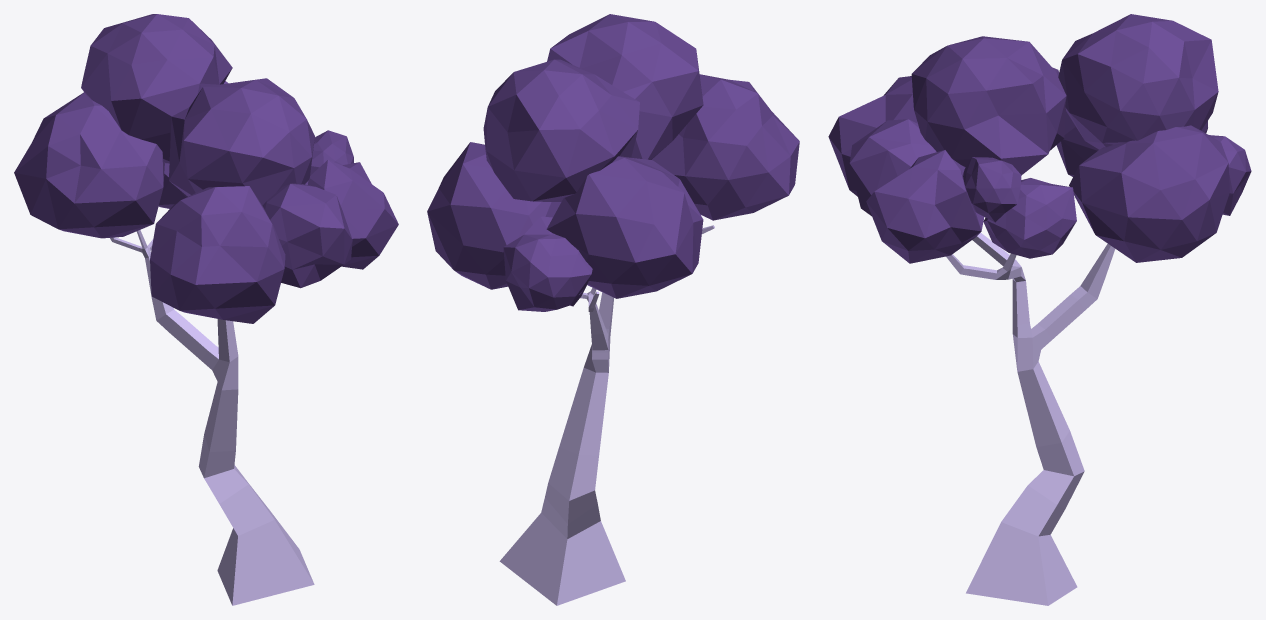
The model's file is oaktree1.fbx.
3 views of the same model, side by side, from view 1: azimuth 30°, elevation 25°; view 2: azimuth 150°, elevation 25°; view 3: azimuth 270°, elevation 25° (orthographic). The views are drawn at different scales.
Parts seen in each view (by area): view 1: Icosphere.003, Icosphere, oak_tree1, Icosphere.005, Icosphere.006, Icosphere.010, Icosphere.001, Icosphere.008, Icosphere.004; view 2: Icosphere.006, oak_tree1, Icosphere.003, Icosphere, Icosphere.005, Icosphere.004, Icosphere.009; view 3: oak_tree1, Icosphere.005, Icosphere.006, Icosphere.004, Icosphere.001, Icosphere.002, Icosphere.010, Icosphere, Icosphere.008, Icosphere.009, Icosphere.003.
Part boxes in pixels (x1,y1,x2,y2): Icosphere.003: [14, 92, 164, 238]; Icosphere: [150, 186, 285, 323]; oak_tree1: [110, 230, 314, 605]; Icosphere.005: [169, 78, 314, 205]; Icosphere.006: [81, 14, 232, 163]; Icosphere.010: [262, 183, 352, 288]; Icosphere.001: [305, 160, 398, 269]; Icosphere.008: [310, 130, 353, 175]; Icosphere.004: [158, 81, 227, 208]; Icosphere.006: [483, 59, 639, 201]; oak_tree1: [499, 225, 714, 605]; Icosphere.003: [546, 156, 703, 298]; Icosphere: [652, 74, 799, 220]; Icosphere.005: [547, 14, 703, 159]; Icosphere.004: [427, 142, 561, 289]; Icosphere.009: [503, 216, 592, 311]; oak_tree1: [946, 232, 1115, 605]; Icosphere.005: [911, 36, 1066, 175]; Icosphere.006: [1058, 14, 1218, 149]; Icosphere.004: [1069, 125, 1229, 262]; Icosphere.001: [866, 150, 984, 263]; Icosphere.002: [983, 178, 1076, 258]; Icosphere.010: [849, 119, 936, 216]; Icosphere: [828, 76, 917, 196]; Icosphere.008: [963, 157, 1021, 222]; Icosphere.009: [1208, 134, 1251, 215]; Icosphere.003: [1056, 111, 1207, 176].
Size of the model in its own units: 445 by 882 by 611.
